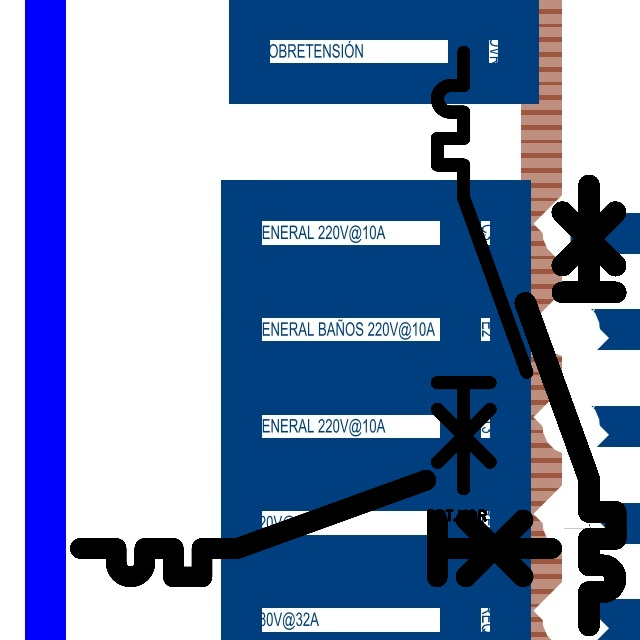interruptor_termomagnetico: (68, 468, 563, 589), (514, 174, 627, 637), (426, 41, 538, 499)
